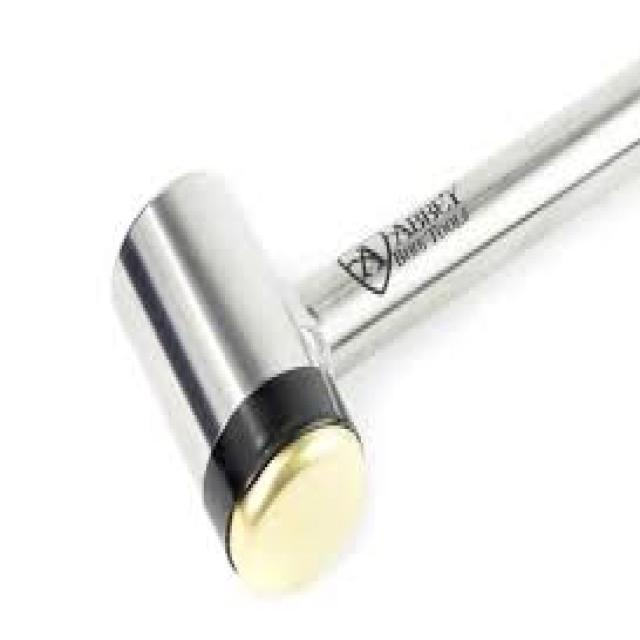Palu: (108, 21, 640, 584)
